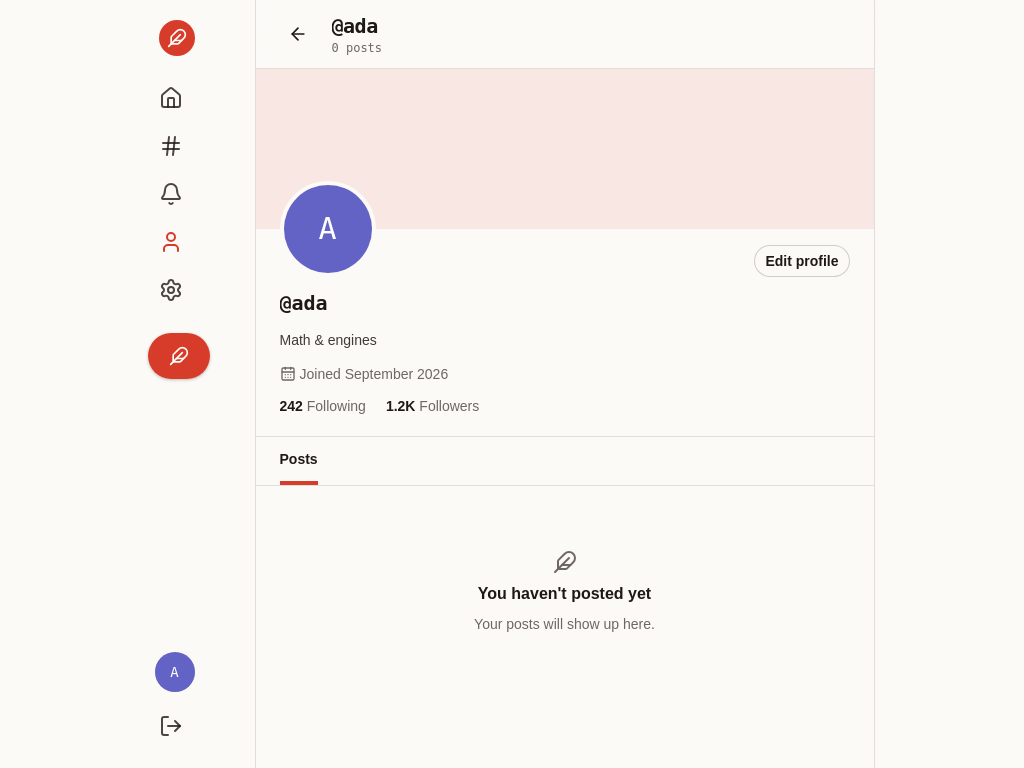
Test case: Profile › follows › closes the follow list when a row opens another profile
This screenshot has width=1024, height=768.
Step 1. Click the button "242 Following" → coordinates (323, 406), box [280,396,366,416]
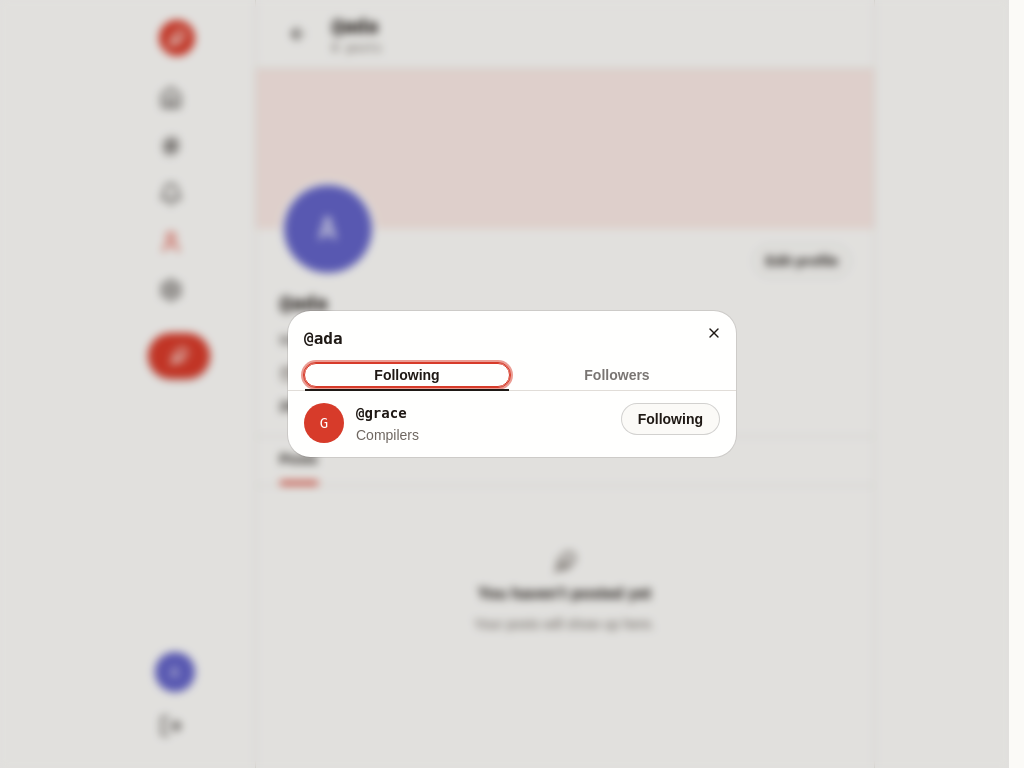
Step 2. Click the link "@grace" → coordinates (381, 413), box [356,405,407,421]
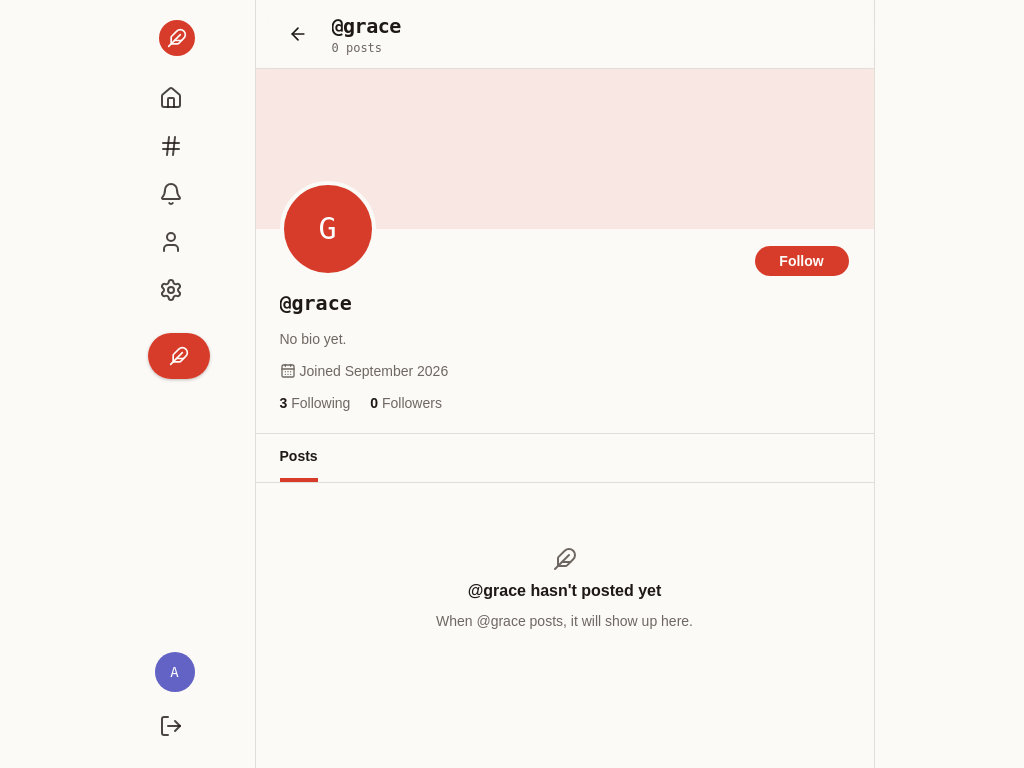
Expected: the heading "@grace" is shown, [332,14,401,38]
Expected: the dialog is gone
Expected: the button "3 Following" is collapsed, [280,393,350,413]
